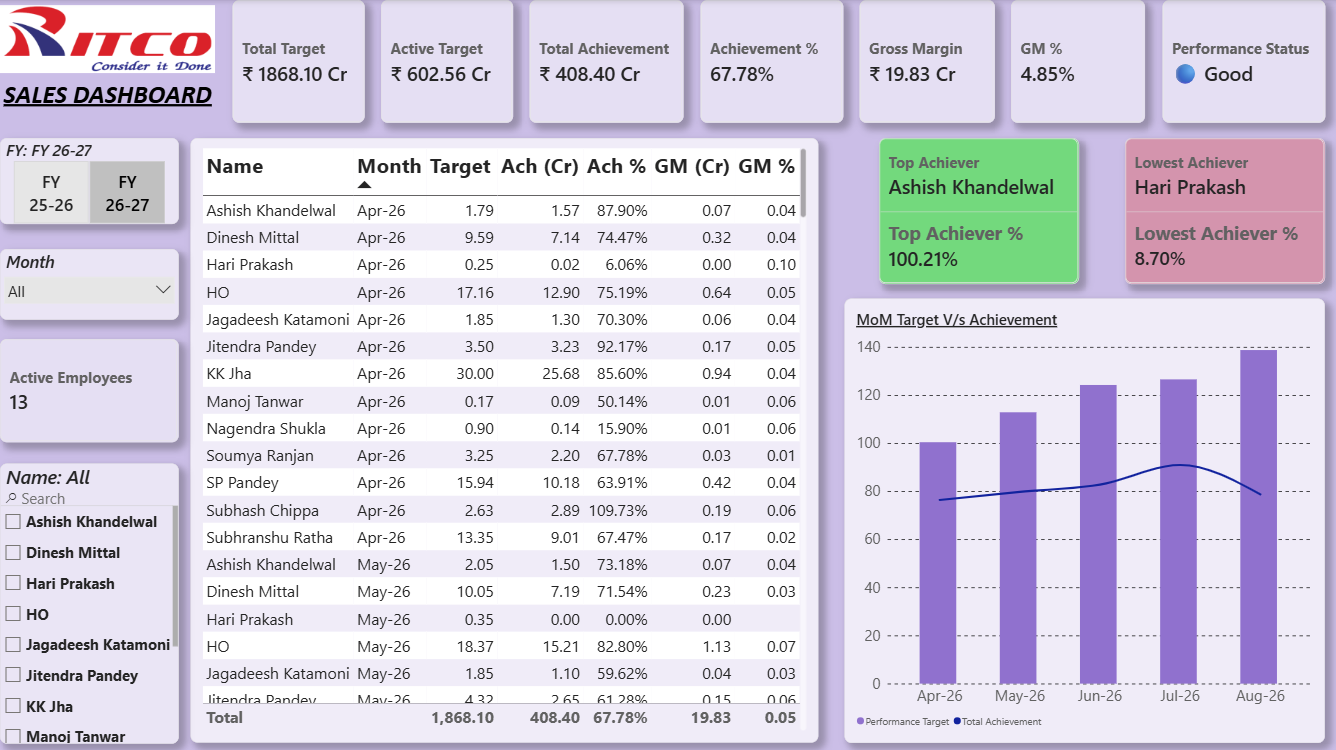

This screenshot's page, from the dashboard's own definition file:
{"tool":"powerbi","page":{"name":"Page 1","canvas":[1920,1080],"ordinal":0},"visuals":[{"type":"tableEx","fields":{"Values":["Sales.Name","Calendar.Month Year","Measure table.Total Target","Measure table.Total Achievement","Measure table.Achievement %","Measure table.Total GM","Measure table.GM %"]},"box":[272.9,198.3,899.3,866],"z":0},{"type":"cardVisual","fields":{"Data":["Measure table.Total Achievement Display"]},"box":[758.9,0,220.4,176.3],"z":1000},{"type":"cardVisual","fields":{"Data":["Measure table.Total Target Display"]},"box":[332.8,0,189.6,176.3],"z":2000},{"type":"cardVisual","fields":{"Data":["Measure table.Total GM Display"]},"box":[1231.3,0,194,176.3],"z":3000},{"type":"cardVisual","fields":{"Data":["Measure table.Achievement %"]},"box":[1002.9,0,205,176.3],"z":4000},{"type":"cardVisual","fields":{"Data":["Measure table.GM %"]},"box":[1448.8,0,191.8,176.3],"z":5000},{"type":"cardVisual","fields":{"Data":["Measure table.Performance Status"]},"box":[1664.1,0,233.6,176.3],"z":6000},{"type":"slicer","fields":{"Values":["Calendar.Month Year"]},"box":[0,357.1,255.7,101.4],"z":7000},{"type":"cardVisual","fields":{"Data":["Measure table.Active Employees"]},"box":[0,484.9,255.7,147.7],"z":8000},{"type":"slicer","fields":{"Values":["Calendar.FY"]},"box":[0,198.4,255.7,123.4],"z":9000},{"type":"cardVisual","fields":{"Data":["Measure table.Active Target Display"]},"box":[545.9,0,189.6,176.3],"z":10000},{"type":"slicer","fields":{"Values":["Sales.Name"]},"box":[0,663.4,255.7,401.1],"z":11000},{"type":"lineClusteredColumnComboChart","title":"MoM Target V/s Achievement","fields":{"Category":["Calendar.Month Year"],"Y":["Measure table.Performance Target"],"Y2":["Measure table.Total Achievement"]},"box":[1210,427.6,687.7,637],"z":12000},{"type":"cardVisual","fields":{"Data":["Measure table.Top Achiever"]},"box":[1258.5,198.4,286.5,209.4],"z":13000},{"type":"cardVisual","fields":{"Data":["Measure table.Lowest Achiever"]},"box":[1611.2,198.4,286.5,209.4],"z":14000},{"type":"image","box":[0,0,308.3,111.9],"z":15000},{"type":"textbox","box":[0,112.4,308.6,63.9],"z":16000}]}

Visuals, with their boxes in screenshot pixels (x1, y1, x2, y2), scaled from the page's 1920x1080 canvas onto the 1336x750 screenshot:
tableEx - Sales.Name x Calendar.Month Year: [left=190, top=138, right=816, bottom=739]
cardVisual - Measure table.Total Achievement Display: [left=528, top=0, right=681, bottom=122]
cardVisual - Measure table.Total Target Display: [left=232, top=0, right=364, bottom=122]
cardVisual - Measure table.Total GM Display: [left=857, top=0, right=992, bottom=122]
cardVisual - Measure table.Achievement %: [left=698, top=0, right=840, bottom=122]
cardVisual - Measure table.GM %: [left=1008, top=0, right=1142, bottom=122]
cardVisual - Measure table.Performance Status: [left=1158, top=0, right=1320, bottom=122]
slicer - Calendar.Month Year: [left=0, top=248, right=178, bottom=318]
cardVisual - Measure table.Active Employees: [left=0, top=337, right=178, bottom=439]
slicer - Calendar.FY: [left=0, top=138, right=178, bottom=223]
cardVisual - Measure table.Active Target Display: [left=380, top=0, right=512, bottom=122]
slicer - Sales.Name: [left=0, top=461, right=178, bottom=739]
"MoM Target V/s Achievement" lineClusteredColumnComboChart: [left=842, top=297, right=1320, bottom=739]
cardVisual - Measure table.Top Achiever: [left=876, top=138, right=1075, bottom=283]
cardVisual - Measure table.Lowest Achiever: [left=1121, top=138, right=1320, bottom=283]
image: [left=0, top=0, right=215, bottom=78]
textbox: [left=0, top=78, right=215, bottom=122]
